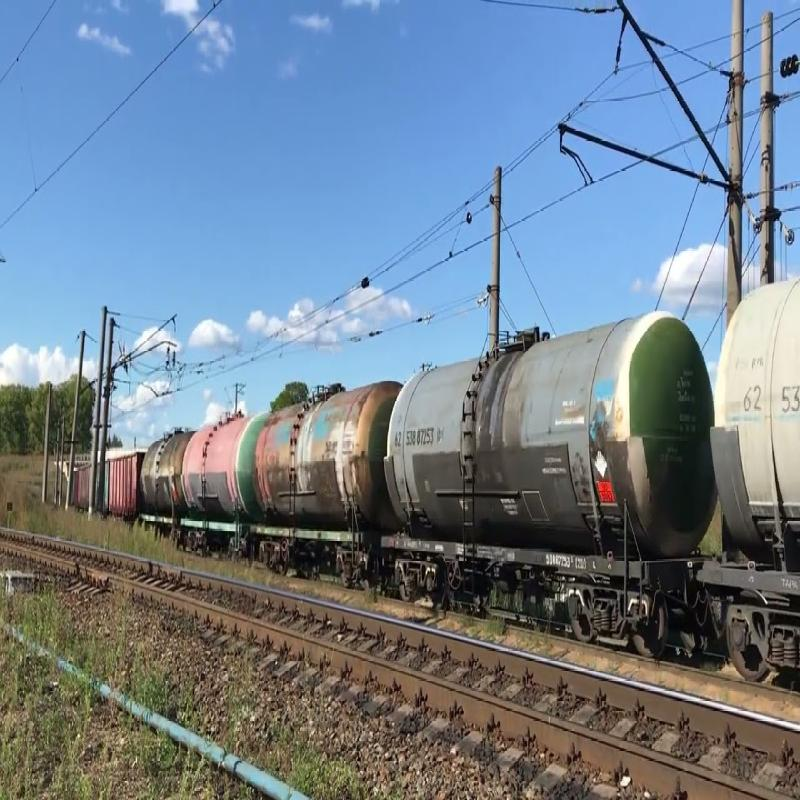train: (387, 312, 723, 682), (246, 369, 418, 592), (139, 404, 271, 576)
